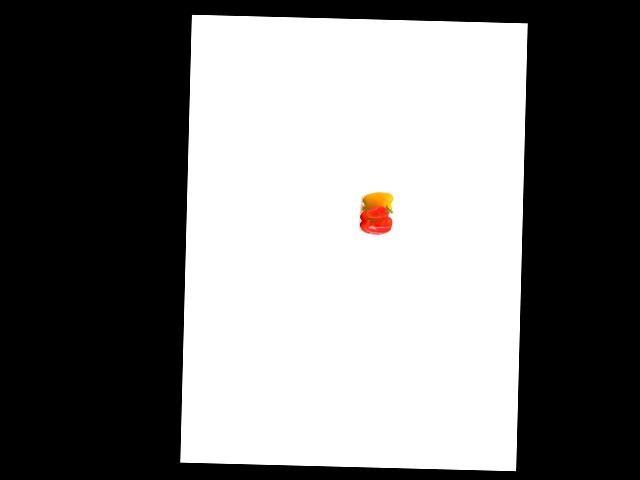bell_pepper: (360, 190, 392, 217)
